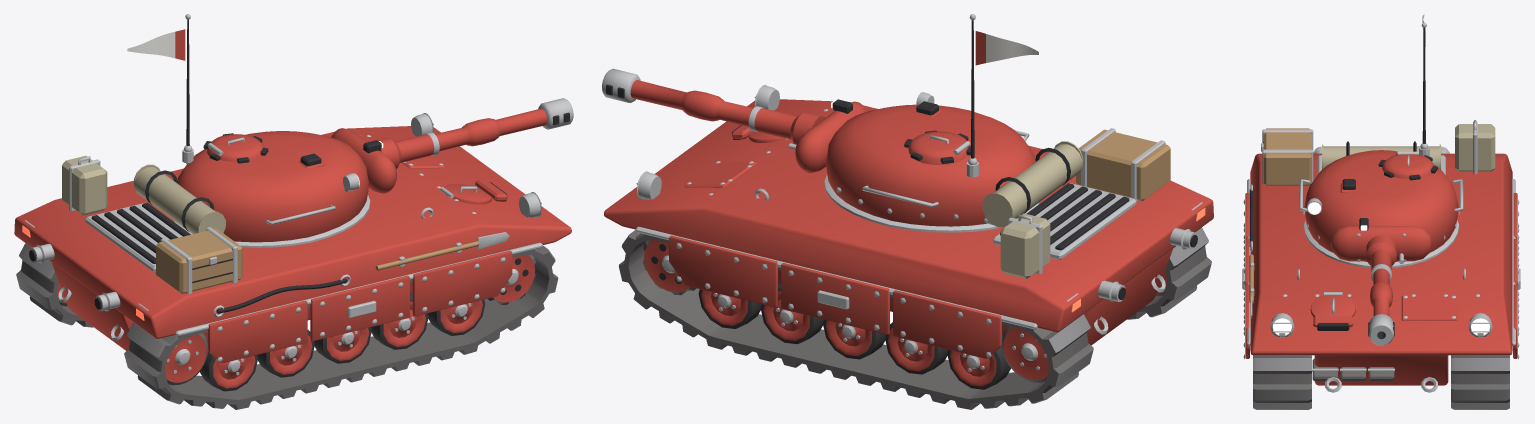
Rendered from tank.glb.
3 renders of one model, left to right at view 1: azimuth 30°, elevation 25°; view 2: azimuth 150°, elevation 25°; view 3: azimuth 270°, elevation 25°, orthographic. The views are drawn at different scales.
Visible parts, largest first — view 1: hull, turret, barrel, wheel_rear, wheel_0, wheel_3, wheel_1, wheel_2, wheel_4, wheel_front, pennant; view 2: hull, turret, barrel, wheel_rear, wheel_0, wheel_3, wheel_1, wheel_4, wheel_2, wheel_front, pennant; view 3: hull, turret, barrel.
Part boxes in pixels (x1,y1,x2,y2): hull: (14, 113, 571, 409); turret: (134, 14, 370, 247); barrel: (331, 98, 573, 193); wheel_rear: (57, 283, 207, 385); wheel_0: (200, 341, 257, 391); wheel_3: (370, 292, 428, 349); wheel_1: (257, 330, 314, 377); wheel_2: (314, 327, 371, 363); wheel_4: (427, 299, 485, 335); wheel_front: (487, 255, 535, 304); pennant: (127, 29, 185, 60); hull: (604, 85, 1213, 409); turret: (824, 14, 1083, 232); barrel: (602, 68, 866, 173); wheel_rear: (1002, 270, 1166, 382); wheel_0: (947, 335, 1010, 389); wheel_3: (761, 281, 823, 344); wheel_1: (885, 322, 948, 374); wheel_4: (698, 289, 761, 328); wheel_2: (823, 319, 885, 359); wheel_front: (643, 240, 696, 295); pennant: (975, 31, 1038, 65); hull: (1242, 120, 1520, 409); turret: (1299, 22, 1463, 267); barrel: (1330, 218, 1432, 345).
Size of the model in its own units: 3.98 by 2.41 by 2.08.
